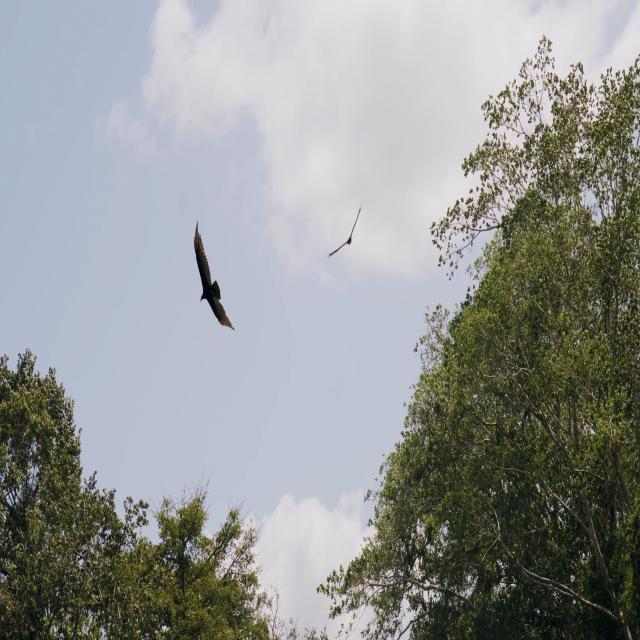bird: (193, 218, 237, 333), (326, 203, 363, 258)
